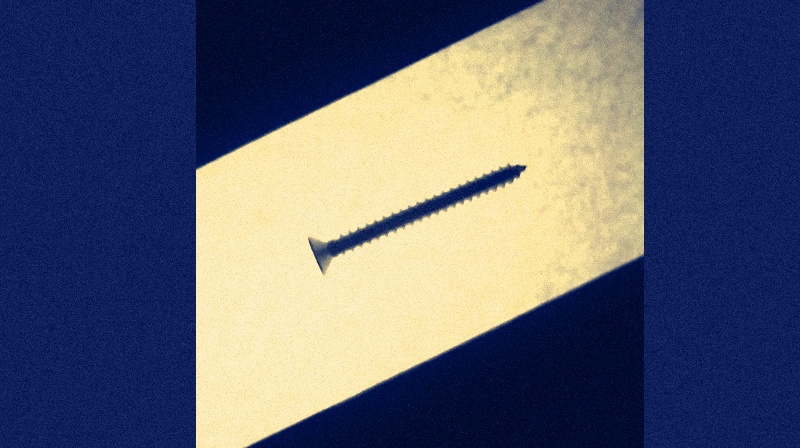S002: (304, 160, 529, 280)
